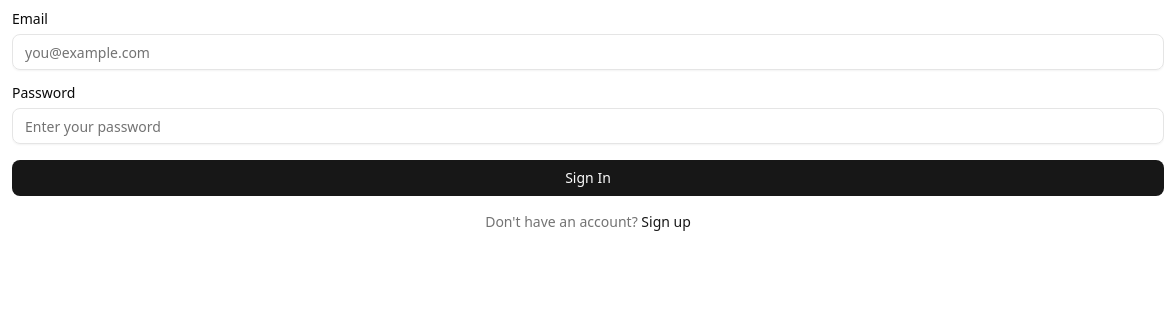
Test: LoginForm › failure cases › displays generic sanitized error for non-Error exceptions
Type "test@example.com" into the field labelled "Email".
click(588, 52); type("test@example.com")  # box left=12, top=34, right=1164, bottom=70
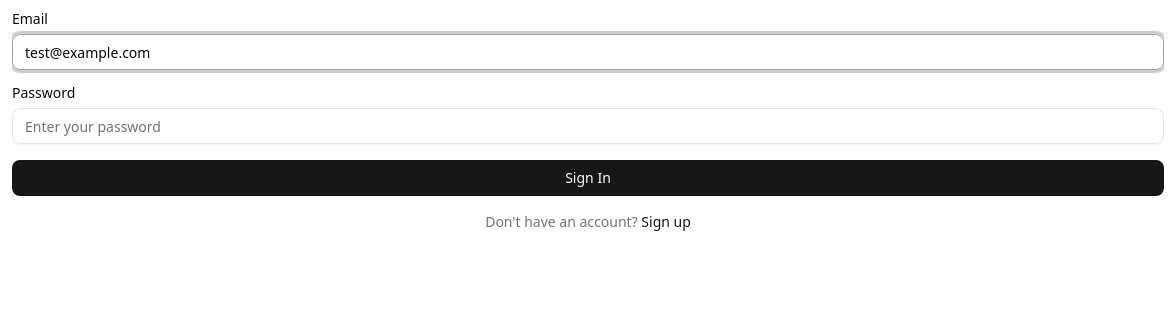
Type "password123" into the password field labelled "Password".
click(588, 126); type("password123")  # box left=12, top=108, right=1164, bottom=144
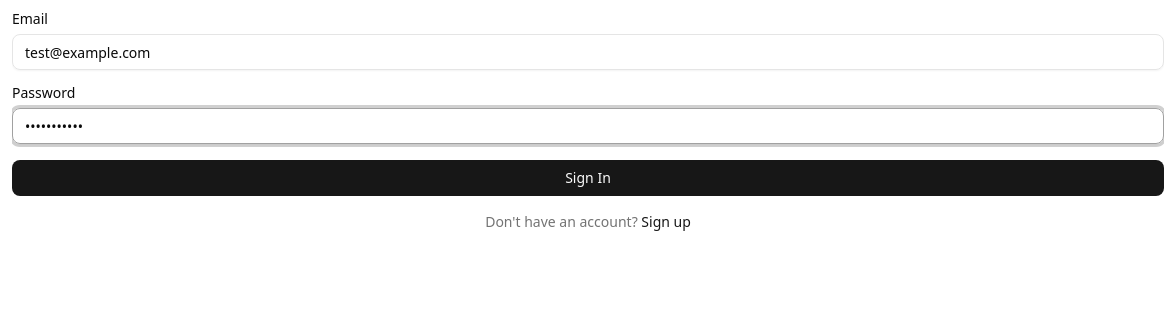
Click the button "Sign In".
click(588, 178)  # box left=12, top=160, right=1164, bottom=196
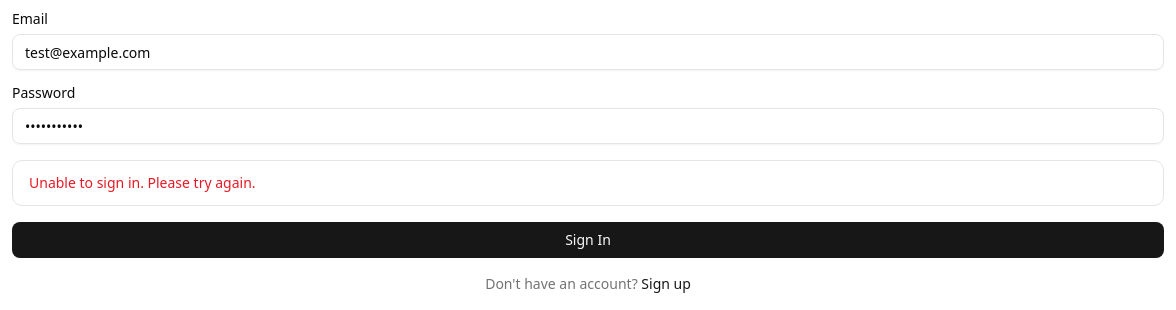
Result: the text "Unable to sign in. Please try again." is shown at left=29, top=173, right=256, bottom=192
